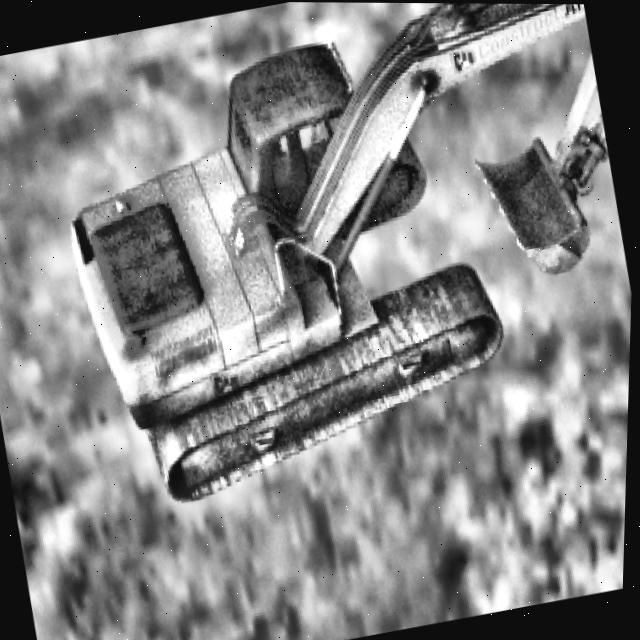excavator: (27, 0, 640, 516)
